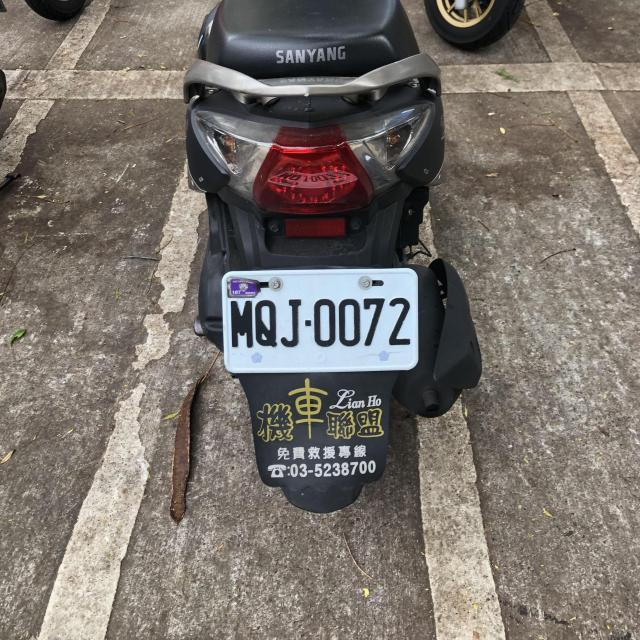W: (220, 267, 419, 376)
